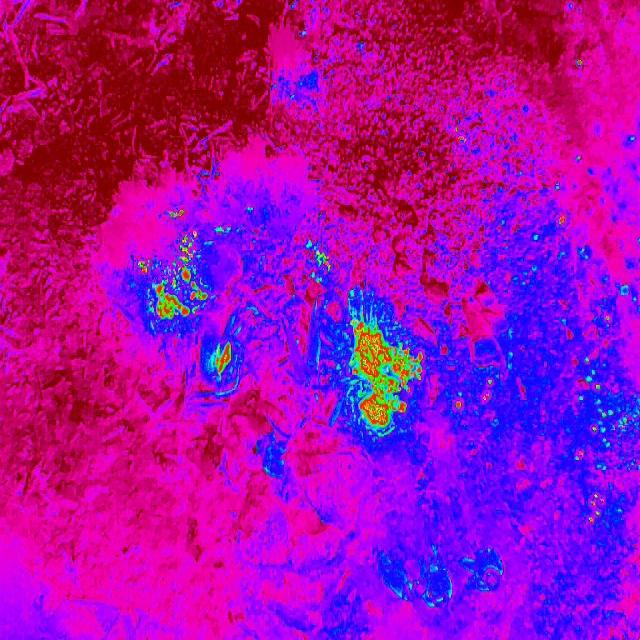fire: (551, 300, 640, 532), (352, 320, 426, 434), (140, 233, 212, 321), (452, 371, 498, 417), (212, 340, 236, 380), (312, 248, 332, 274), (556, 212, 574, 234), (164, 206, 186, 222), (569, 54, 586, 72)
